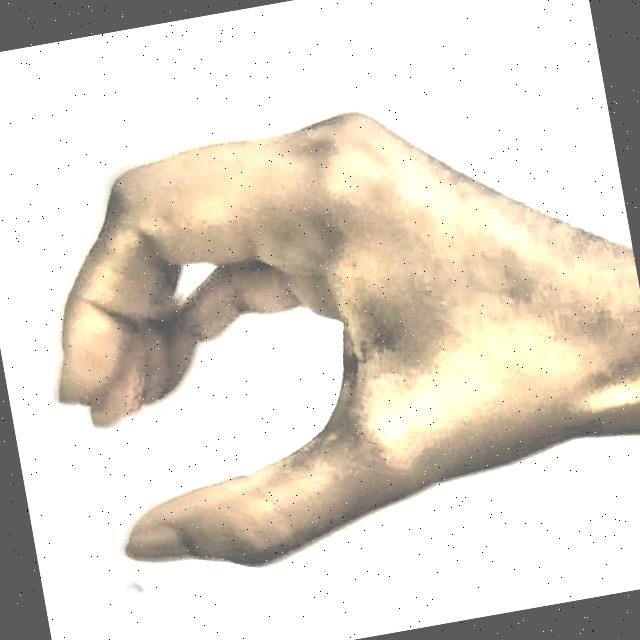Ka: (1, 35, 640, 610)
